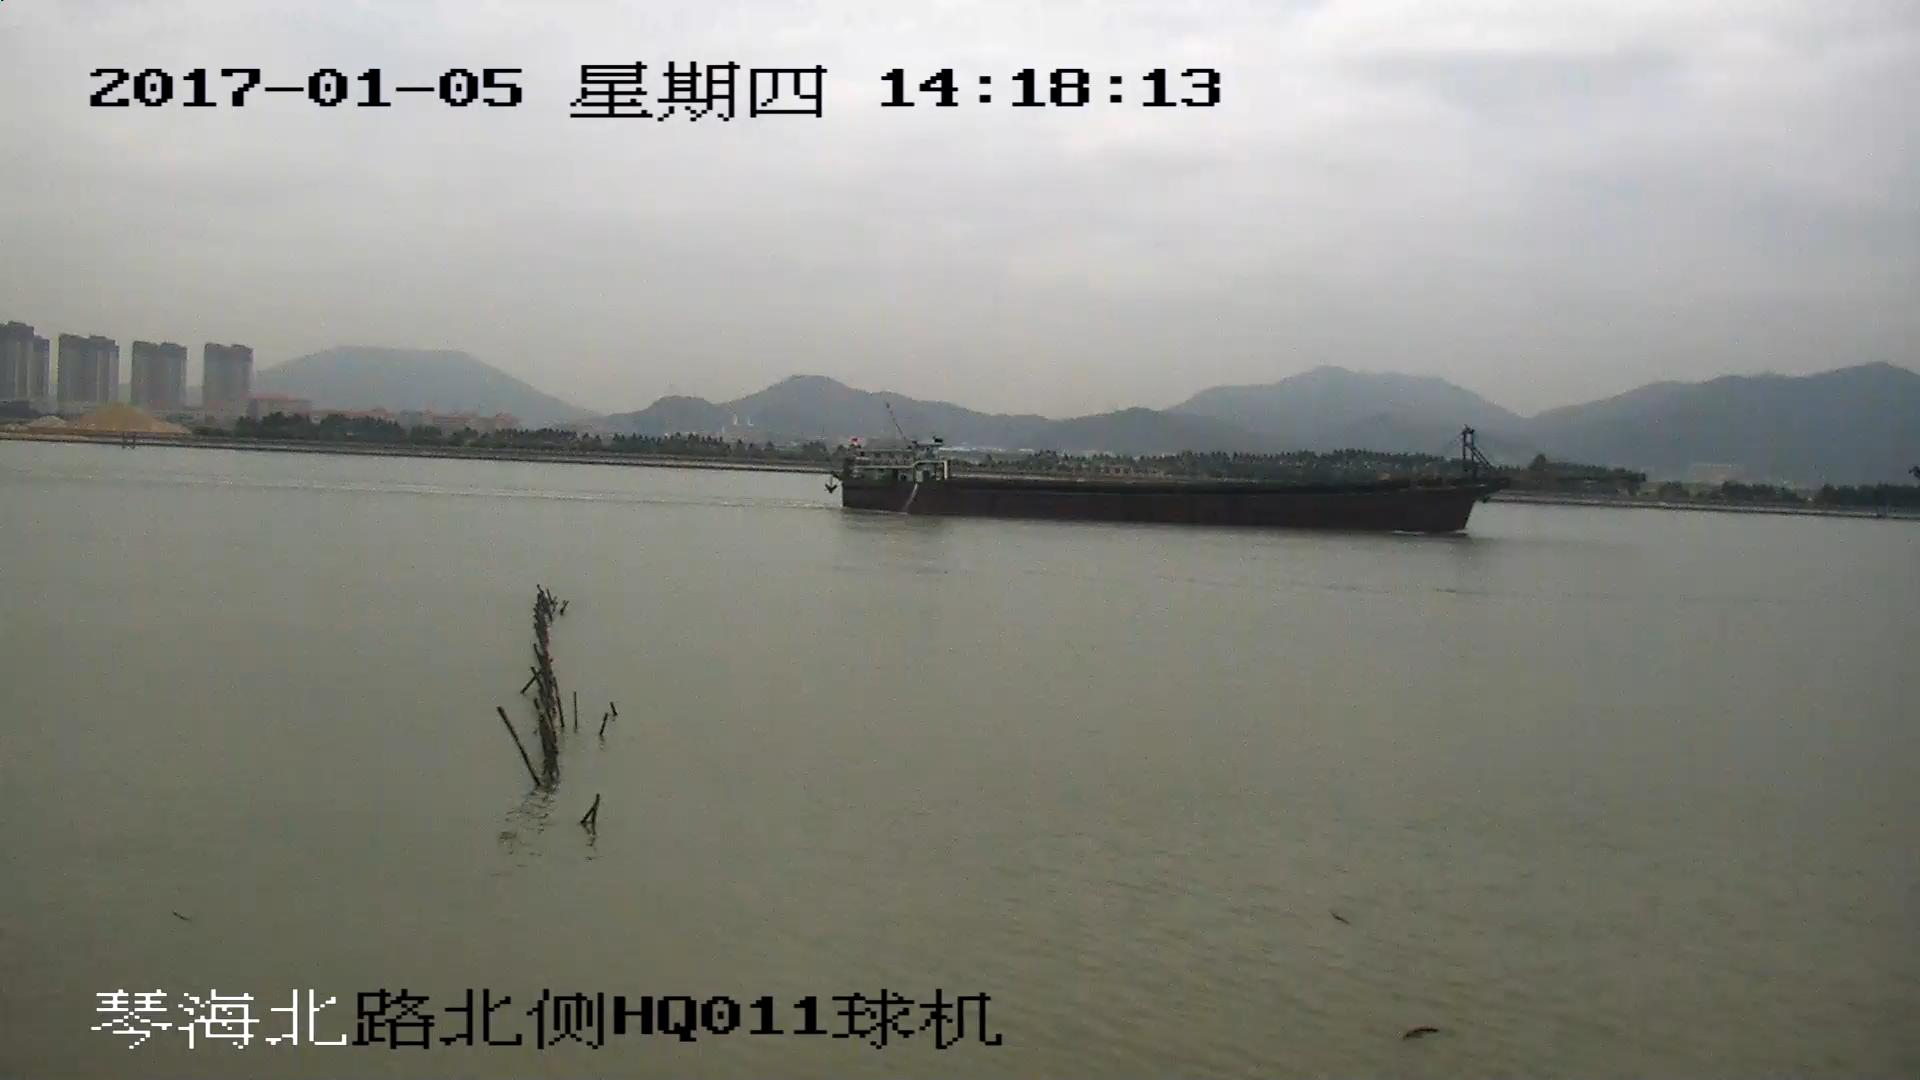bulk cargo carrier: (829, 424, 1650, 533)
